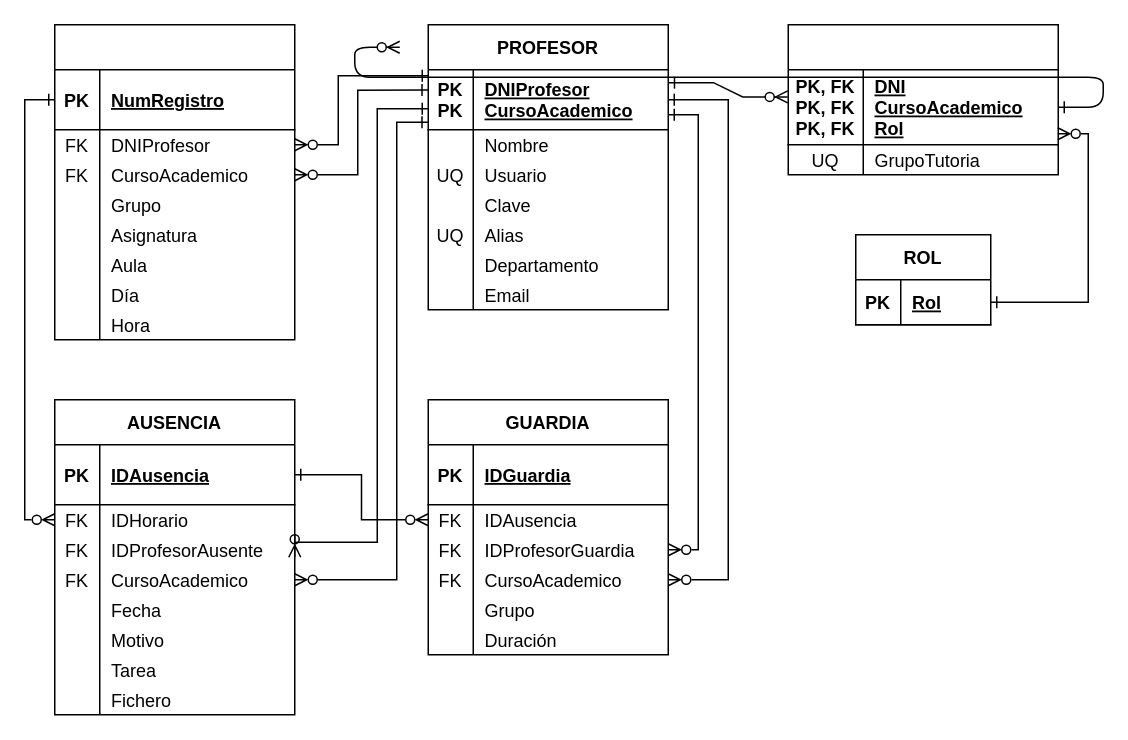
Some shapes in this 1128 by 740 pixel diagram are drawn without their labels. Here are the shapes that lost their labels. From the top down, the box of each, then its label:
(787, 23, 1058, 175): PROFESOR_ROL
(53, 23, 295, 340): HORARIO
